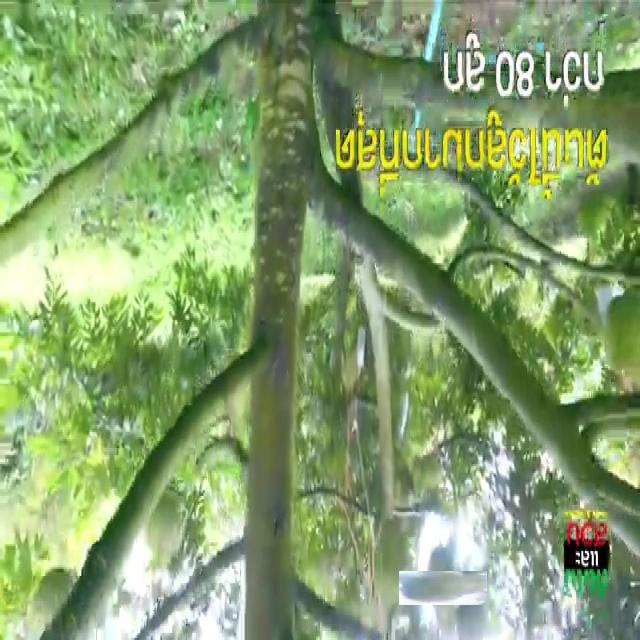durian: (24, 561, 99, 640), (370, 512, 415, 610), (412, 557, 473, 619), (145, 481, 188, 567)
